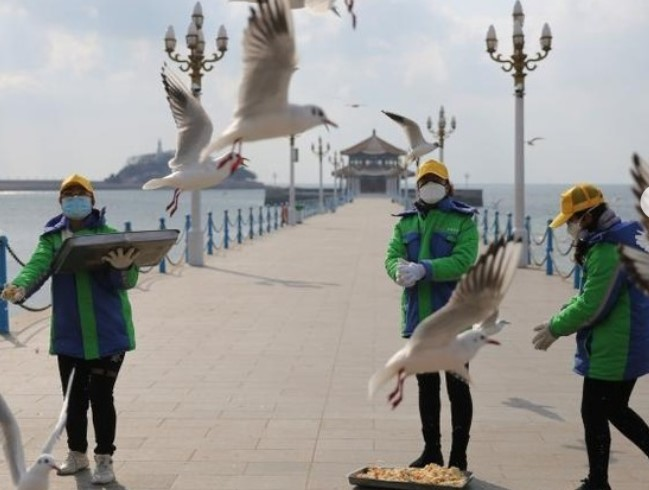face_with_mask: (562, 184, 611, 248), (56, 170, 97, 222), (415, 158, 452, 205)
